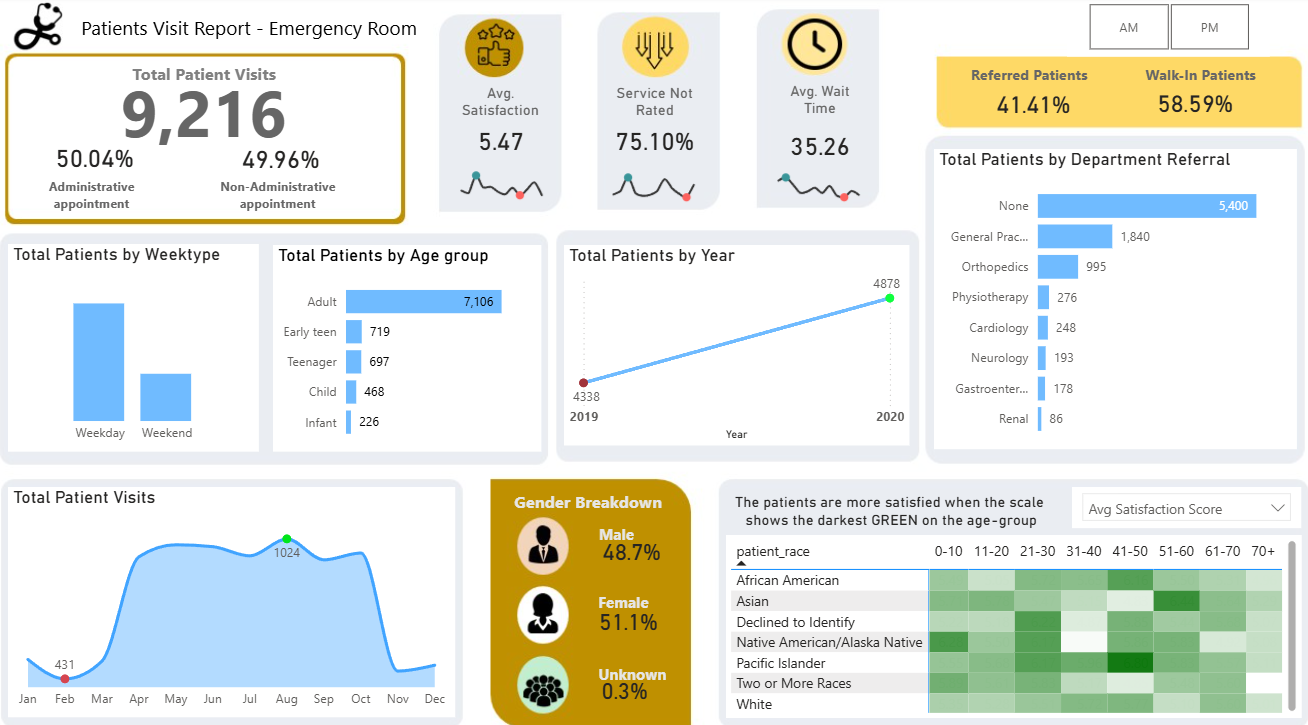

The page's visual inventory and layout, read from the dashboard file:
{"tool":"powerbi","page":{"name":"Page 1","canvas":[1280,720],"ordinal":0},"visuals":[{"type":"card","fields":{"Values":["Calculations.Total Patients"]},"box":[62.7,37,277.4,142.8],"z":0},{"type":"card","fields":{"Values":["Calculations.% Admin schedule"]},"box":[39.1,129.4,112,52.4],"z":1000},{"type":"card","fields":{"Values":["Calculations.Non-admin patients"]},"box":[223.9,137.7,104.8,38],"z":2000},{"type":"pivotTable","fields":{"Values":["Calculations.Avg Satisfaction Score"],"Rows":["ER Patients Dataset.patient_race"],"Columns":["ER Patients Dataset.Age bins"]},"box":[708.8,522.9,559.9,177.7],"z":3000},{"type":"slicer","fields":{"Values":["Parameter.Parameter"]},"box":[1045.8,476.7,222.9,40.1],"z":4000},{"type":"clusteredBarChart","fields":{"Category":["ER Patients Dataset.Age group"],"Y":["Calculations.Total Patients"]},"box":[268.1,241.4,260.9,201.3],"z":5000},{"type":"areaChart","title":"Total Patient Visits","fields":{"Category":["Date.Month"],"Y":["Calculations.Total Patients","Calculations.Value Max Point (Month)"]},"box":[10.3,476.7,434.5,223.9],"z":6000},{"type":"slicer","fields":{"Values":["ER Patients Dataset.AM/PM"]},"box":[1040.6,0,197.2,57.5],"z":7000},{"type":"lineChart","title":"Total Patients by Year","fields":{"Y":["Calculations.Total Patients","Calculations.Value Max Point (Year)"],"Category":["Date.Year"]},"box":[551.7,241.4,335.9,195.2],"z":8000},{"type":"clusteredBarChart","title":"Total Patients by Department Referral","fields":{"Y":["Calculations.Total Patients"],"Category":["ER Patients Dataset.department_referral"]},"box":[911.2,147.9,353.4,291.7],"z":9000},{"type":"card","fields":{"Values":["Calculations.% Un Referred Patients"]},"box":[1092,83.2,145.9,39],"z":10000},{"type":"card","fields":{"Values":["Calculations.% Referred Patients"]},"box":[934.8,83.2,146.9,40.1],"z":11000},{"type":"card","fields":{"Values":["Calculations.Heatmap capiton"]},"box":[699.6,472.6,341.1,55.5],"z":12000},{"type":"textbox","box":[35,169.5,114,51.4],"z":13000},{"type":"textbox","box":[195.2,169.5,155.1,44.2],"z":14000},{"type":"card","title":"Avg. Satisfaction","fields":{"Values":["Calculations.Avg Satisfaction Score"]},"box":[433.5,85.3,112,72.9],"z":15000},{"type":"card","title":"Avg. Wait Time","fields":{"Values":["Calculations.Average Wait Time"]},"box":[754,83.2,93.5,86.3],"z":16000},{"type":"card","title":"Service Not Rated","fields":{"Values":["Calculations.% No rating"]},"box":[579.4,85.3,120.2,72.9],"z":17000},{"type":"textbox","box":[934.8,60.6,138.7,43.1],"z":18000},{"type":"textbox","box":[1104.3,60.6,133.5,43.1],"z":19000},{"type":"clusteredColumnChart","fields":{"Y":["Calculations.Total Patients"],"Category":["Date.Weektype"]},"box":[10.3,240.4,244.5,202.4],"z":20000},{"type":"card","fields":{"Values":["Calculations.% Male"]},"box":[577.3,588.6,71.9,39],"z":21000},{"type":"card","fields":{"Values":["Calculations.% Female"]},"box":[578.4,513.6,77,52.4],"z":22000},{"type":"card","fields":{"Values":["Calculations.% Unknown"]},"box":[572.2,656.4,77,37],"z":23000},{"type":"PBI_CV_25997FEB_F466_44FA_B562_AC4063283C4C","fields":{"measure":["Calculations.Avg Satisfaction Score"],"axis":["Date.Month"]},"box":[433.5,156.1,118.1,47.3],"z":24000},{"type":"PBI_CV_25997FEB_F466_44FA_B562_AC4063283C4C","fields":{"measure":["Calculations.% No rating"],"axis":["Date.Month"]},"box":[581.4,158.2,118.1,47.3],"z":25000},{"type":"PBI_CV_25997FEB_F466_44FA_B562_AC4063283C4C","fields":{"measure":["Calculations.Average Wait Time"],"axis":["Date.Month"]},"box":[741.7,158.2,118.1,47.3],"z":26000},{"type":"textbox","box":[479.7,474.6,191.1,51.4],"z":27000},{"type":"textbox","box":[556.8,573.2,105.8,31.8],"z":29000},{"type":"textbox","box":[565,643.1,105.8,31.8],"z":30000},{"type":"textbox","box":[105.8,58.6,191.1,51.4],"z":31000},{"type":"textbox","box":[77,11.3,391.4,50],"z":31001},{"type":"textbox","box":[549.6,506.5,105.8,31.8],"z":31002}]}

Visuals, with their boxes in screenshot pixels (x1, y1, x2, y2), scaled from the page's 1280x720 canvas onto the 1308x725 screenshot:
card - Calculations.Total Patients: <box>64,37,348,181</box>
card - Calculations.% Admin schedule: <box>40,130,154,183</box>
card - Calculations.Non-admin patients: <box>229,139,336,177</box>
pivotTable - Calculations.Avg Satisfaction Score x ER Patients Dataset.patient_race: <box>724,527,1296,705</box>
slicer - Parameter.Parameter: <box>1069,480,1296,520</box>
clusteredBarChart - ER Patients Dataset.Age group x Calculations.Total Patients: <box>274,243,541,446</box>
"Total Patient Visits" areaChart: <box>11,480,455,705</box>
slicer - ER Patients Dataset.AM/PM: <box>1063,0,1265,58</box>
"Total Patients by Year" lineChart: <box>564,243,907,440</box>
"Total Patients by Department Referral" clusteredBarChart: <box>931,149,1292,443</box>
card - Calculations.% Un Referred Patients: <box>1116,84,1265,123</box>
card - Calculations.% Referred Patients: <box>955,84,1105,124</box>
card - Calculations.Heatmap capiton: <box>715,476,1063,532</box>
textbox: <box>36,171,152,222</box>
textbox: <box>199,171,358,215</box>
"Avg. Satisfaction" card: <box>443,86,557,159</box>
"Avg. Wait Time" card: <box>770,84,866,171</box>
"Service Not Rated" card: <box>592,86,715,159</box>
textbox: <box>955,61,1097,104</box>
textbox: <box>1128,61,1265,104</box>
clusteredColumnChart - Calculations.Total Patients x Date.Weektype: <box>11,242,260,446</box>
card - Calculations.% Male: <box>590,593,663,632</box>
card - Calculations.% Female: <box>591,517,670,570</box>
card - Calculations.% Unknown: <box>585,661,663,698</box>
PBI_CV_25997FEB_F466_44FA_B562_AC4063283C4C - Calculations.Avg Satisfaction Score x Date.Month: <box>443,157,564,205</box>
PBI_CV_25997FEB_F466_44FA_B562_AC4063283C4C - Calculations.% No rating x Date.Month: <box>594,159,715,207</box>
PBI_CV_25997FEB_F466_44FA_B562_AC4063283C4C - Calculations.Average Wait Time x Date.Month: <box>758,159,879,207</box>
textbox: <box>490,478,685,530</box>
textbox: <box>569,577,677,609</box>
textbox: <box>577,648,685,680</box>
textbox: <box>108,59,303,111</box>
textbox: <box>79,11,479,62</box>
textbox: <box>562,510,670,542</box>
